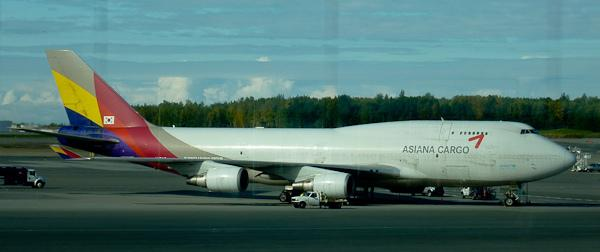airplane: (38, 41, 584, 215)
